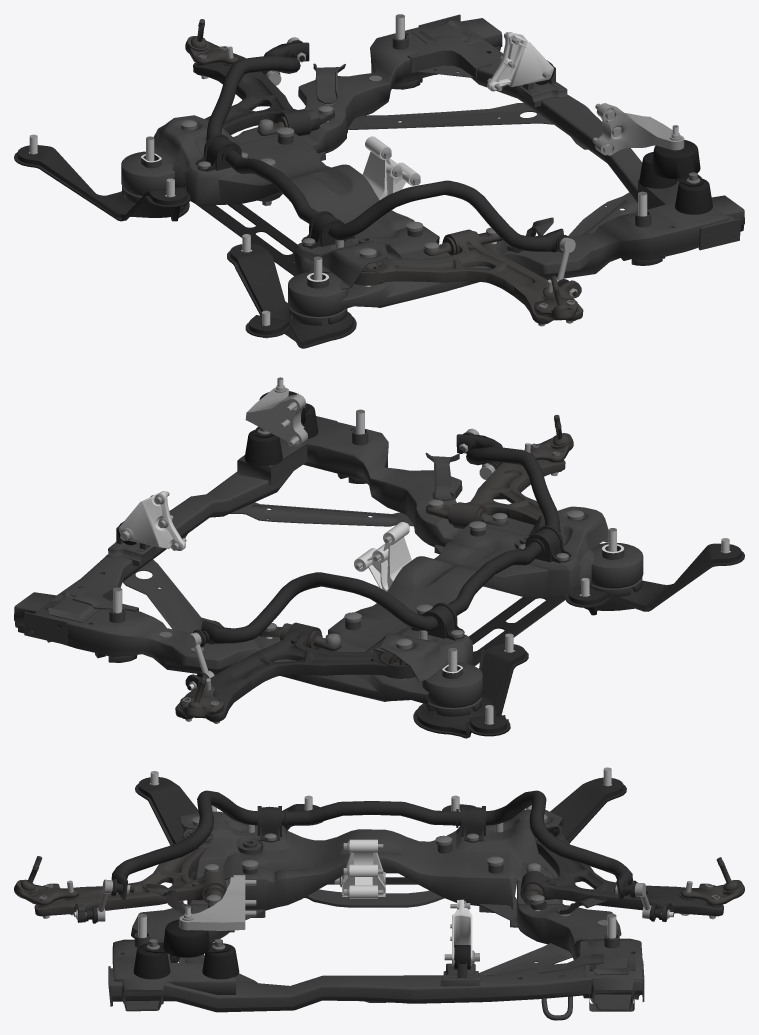
The model's file is E5_前悬挂总成.FBX.
3 views of the same model, one above another, from view 1: azimuth 30°, elevation 25°; view 2: azimuth 150°, elevation 25°; view 3: azimuth 270°, elevation 25° (orthographic). The views are drawn at different scales.
Visible parts, largest first — view 1: YBL, QPHG, QXBB1_05, YBLZJ_R001, YBLZJ_R002, QXBB1_06, QDDJ_ZC_GDZJ_C_001, QDDJ_ZC_GDZJ_B_001, DP_XHL_01, QDDJ_ZC_GDZJ_A_001, QCJ_LS_2, HXWDG_0101 (+5 smaller); view 2: YBL, QPHG, QXBB1_06, YBLZJ_R002, QXBB1_05, YBLZJ_R001, QDDJ_ZC_GDZJ_C_001, QDDJ_ZC_GDZJ_B_001, QDDJ_ZC_GDZJ_A_001, DP_XHL_01, QCJ_LS_2, HXWDG_0102 (+6 smaller); view 3: YBL, QPHG, QXBB1_06, QXBB1_05, YBLZJ_R001, YBLZJ_R002, QDDJ_ZC_GDZJ_A_001, QDDJ_ZC_GDZJ_C_001, YBL_01, QCJ_LS_2, QDDJ_ZC_GDZJ_B_001, QXBB2_02 (+5 smaller).
Boxes of the visible parts, box(x1,y1,x2,y2) form: YBL: box(121, 14, 744, 325); QPHG: box(206, 42, 577, 297); QXBB1_05: box(354, 229, 583, 324); YBLZJ_R001: box(227, 244, 356, 348); YBLZJ_R002: box(14, 145, 190, 221); QXBB1_06: box(193, 53, 311, 135); QDDJ_ZC_GDZJ_C_001: box(595, 103, 684, 156); QDDJ_ZC_GDZJ_B_001: box(487, 32, 553, 91); DP_XHL_01: box(196, 204, 297, 276); QDDJ_ZC_GDZJ_A_001: box(362, 136, 420, 199); QCJ_LS_2: box(28, 14, 647, 338); HXWDG_0101: box(301, 211, 355, 248); YBL: box(14, 391, 643, 716); QPHG: box(189, 434, 560, 690); QXBB1_06: box(175, 622, 415, 722); YBLZJ_R002: box(413, 643, 528, 738); QXBB1_05: box(452, 450, 565, 528); YBLZJ_R001: box(565, 543, 744, 615); QDDJ_ZC_GDZJ_C_001: box(245, 388, 307, 446); QDDJ_ZC_GDZJ_B_001: box(118, 491, 185, 550); QDDJ_ZC_GDZJ_A_001: box(354, 522, 411, 591); DP_XHL_01: box(468, 596, 565, 666); QCJ_LS_2: box(113, 409, 729, 724); HXWDG_0102: box(411, 602, 464, 640); YBL: box(108, 809, 644, 1020); QPHG: box(76, 790, 670, 918); QXBB1_06: box(520, 826, 723, 921); QXBB1_05: box(34, 829, 226, 922); YBLZJ_R001: box(135, 777, 323, 845); YBLZJ_R002: box(442, 777, 626, 843); QDDJ_ZC_GDZJ_A_001: box(342, 839, 385, 898); QDDJ_ZC_GDZJ_C_001: box(179, 875, 245, 930); YBL_01: box(304, 889, 444, 907); QCJ_LS_2: box(138, 767, 616, 938); QDDJ_ZC_GDZJ_B_001: box(452, 899, 472, 965); QXBB2_02: box(680, 880, 744, 905).
Bounding box in the file's own units: 110 × 29.72 × 150.
